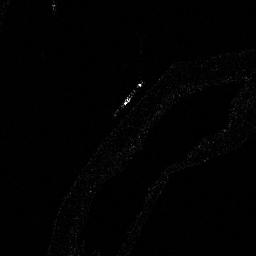ship: (116, 81, 144, 113)
